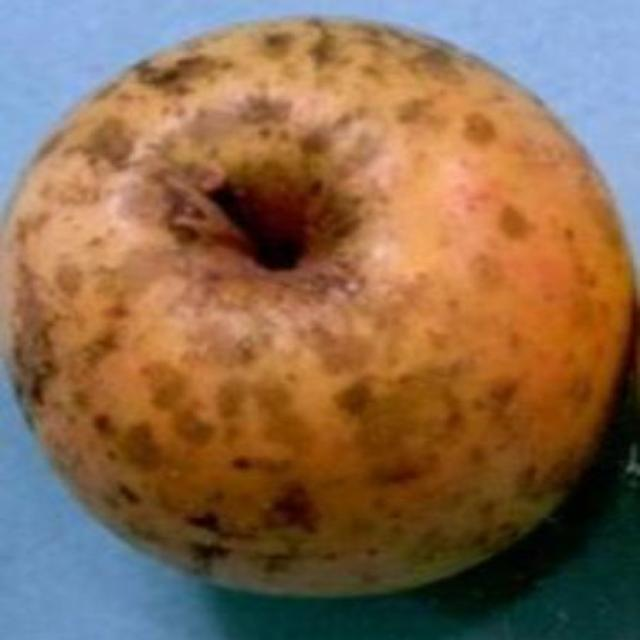Rotten Apple: (27, 13, 635, 637)
